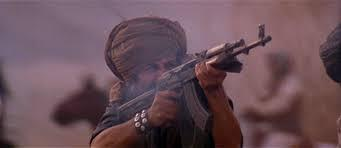rifle: (121, 23, 275, 140)
